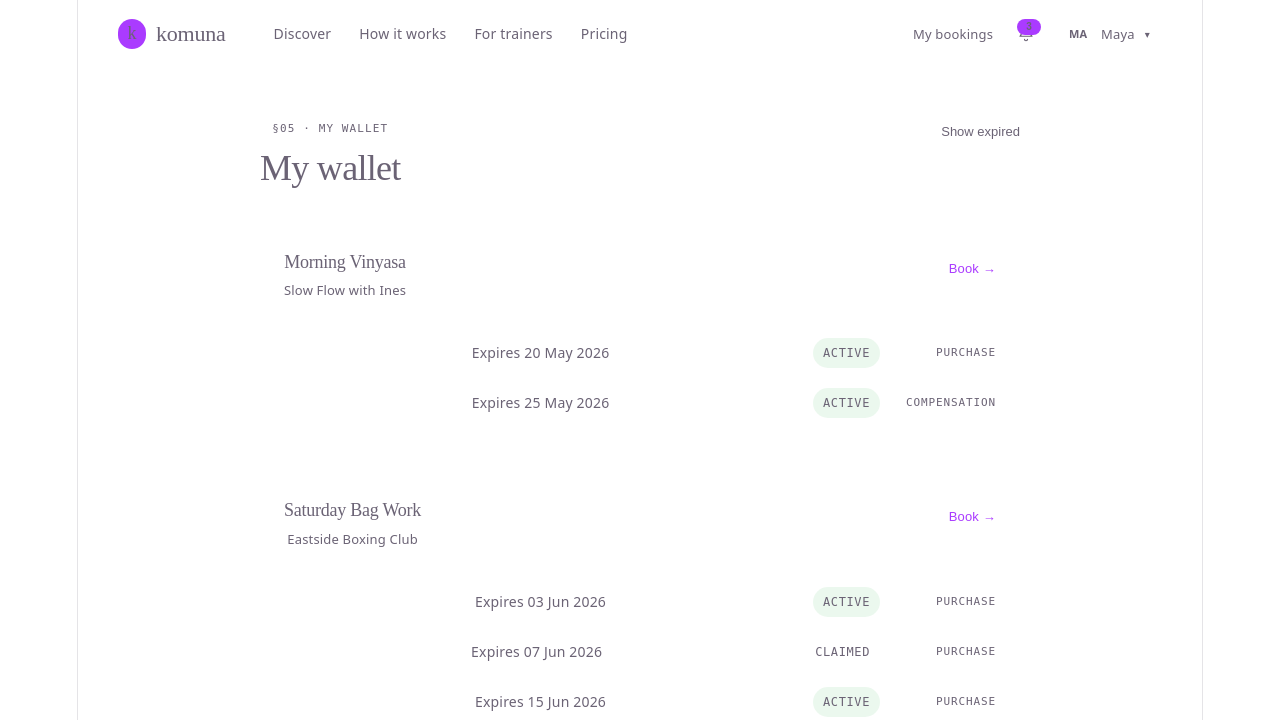
WalletPage › reveals expired vouchers after toggling "Show expired"
Click the button "Show expired" at coordinates (981, 132), box x1=941 y1=120 x2=1020 y2=143
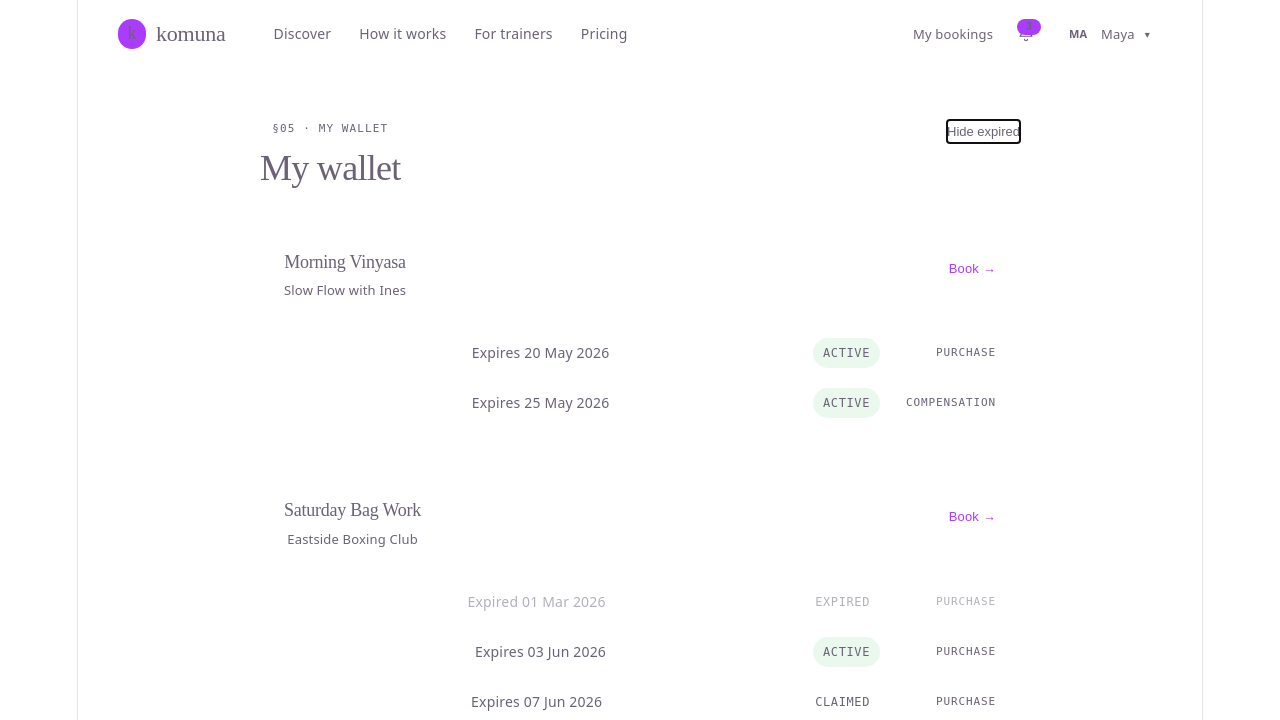
Result: the text "Expired 01 Mar 2026" is shown at x1=468 y1=592 x2=606 y2=611
Result: the text "expired" is shown 3 times
Result: the button "Hide expired" is shown at x1=947 y1=120 x2=1020 y2=143
